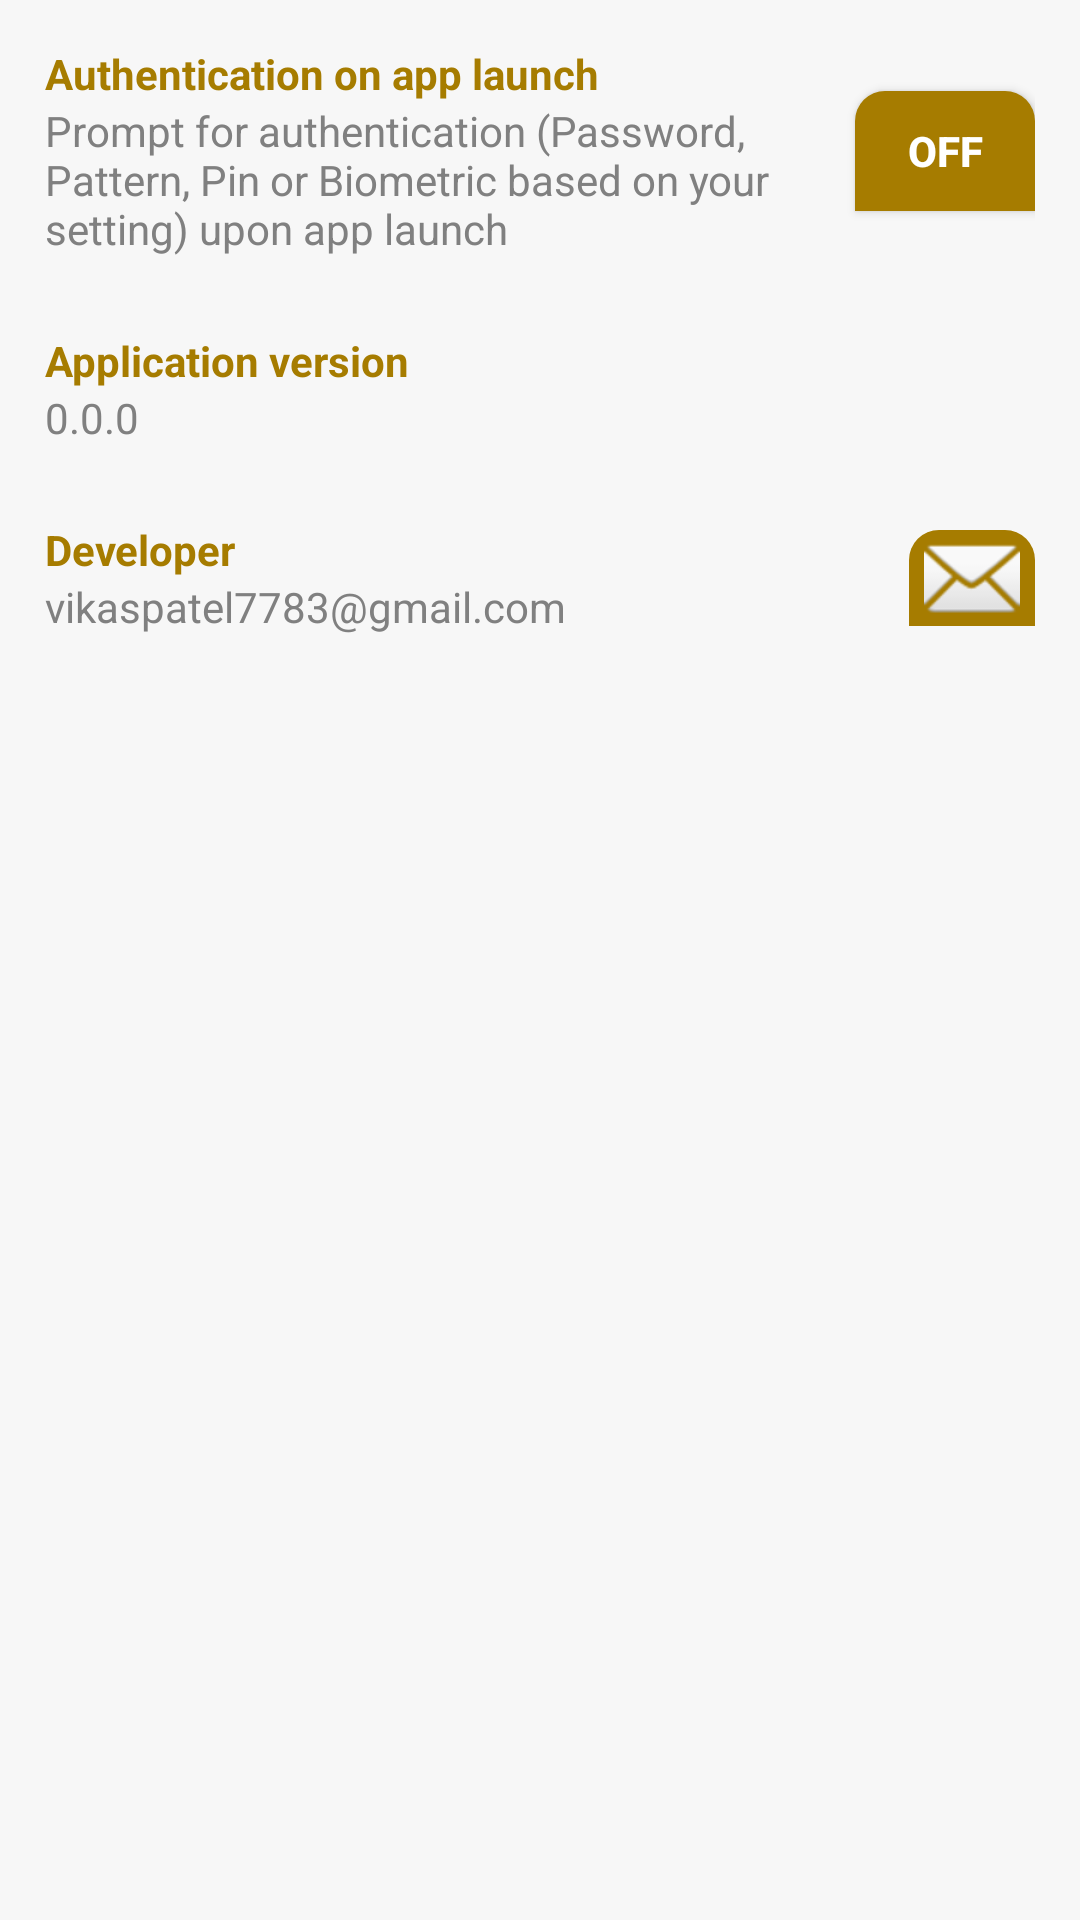

Named icons in this screenshot (1080*1920) and their bounding boxes, (x1, y1, x2, y2):
email: (909, 530, 1035, 626)
